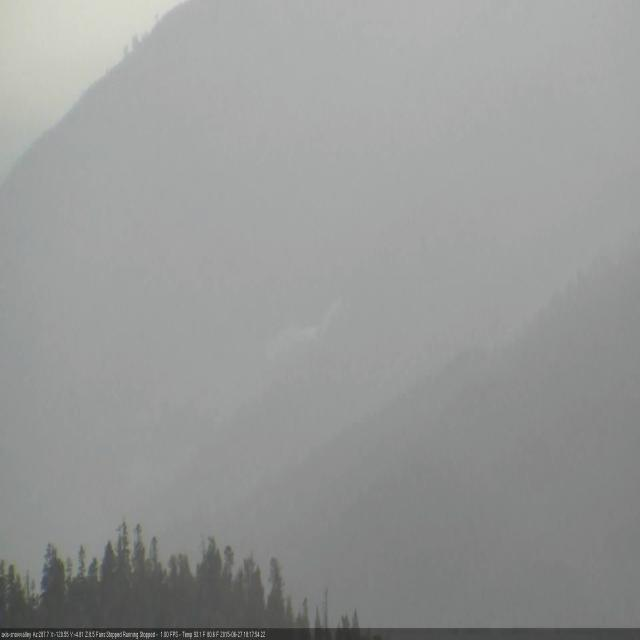smoke: (281, 294, 342, 342)
